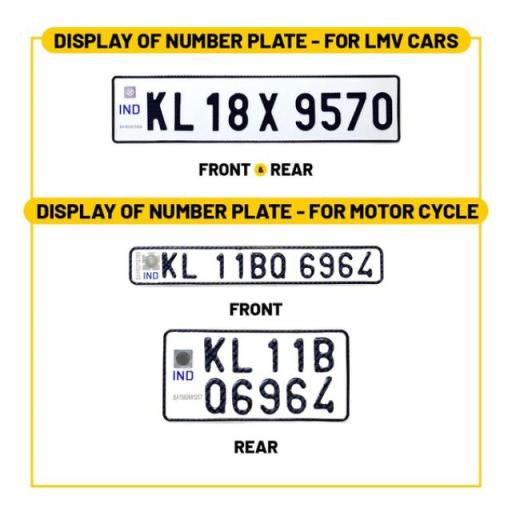number plate: (108, 76, 402, 144), (163, 326, 351, 427), (130, 244, 385, 288)
